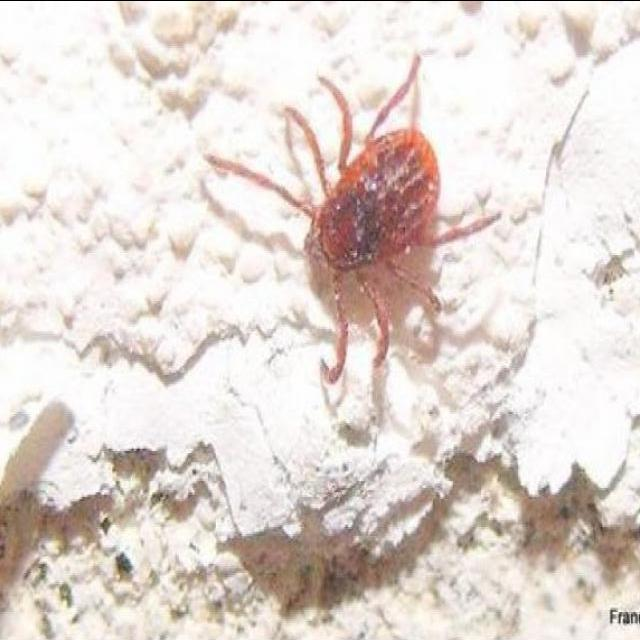Rhipicephalus Sanguineus-F: (203, 57, 500, 389)
